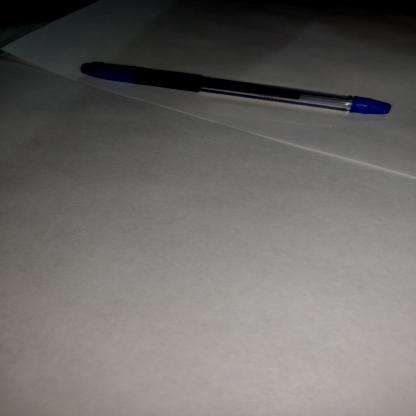Pen: (70, 60, 400, 124)
